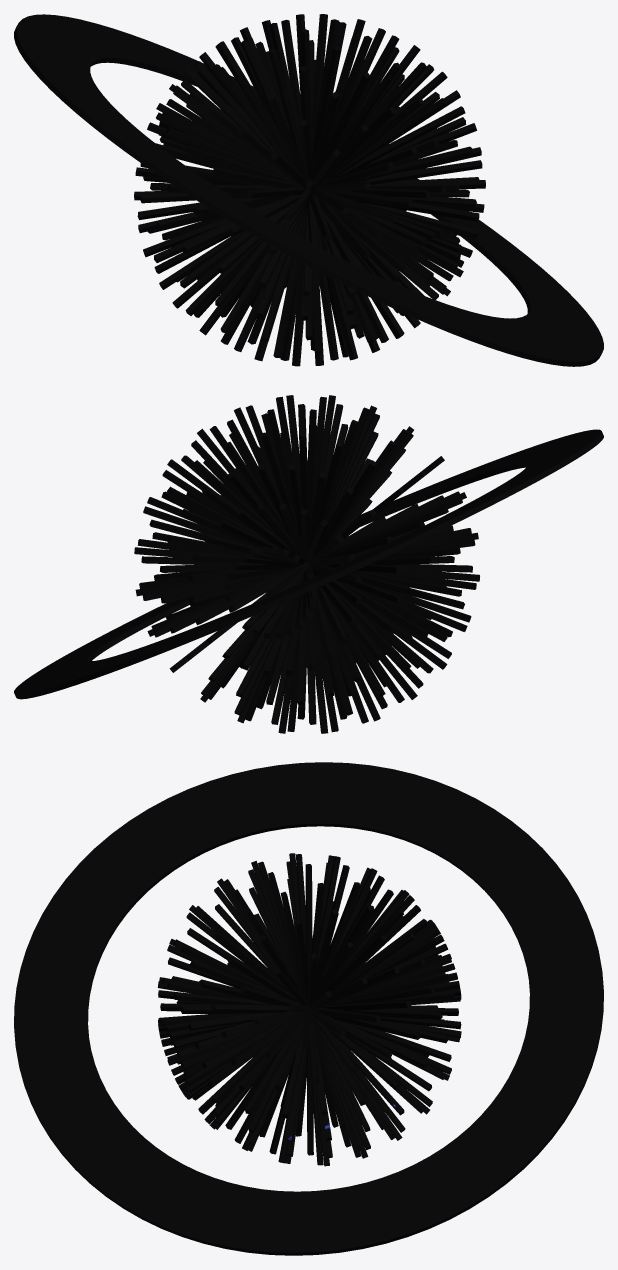
The model's file is DEBRIS.glb.
3 views of the same model, one above another, from view 1: azimuth 30°, elevation 25°; view 2: azimuth 150°, elevation 25°; view 3: azimuth 270°, elevation 25° (orthographic). The views are drawn at different scales.
Parts seen in each view (by area): view 1: mesh_id900, mesh_id759, mesh_id768, mesh_id486, mesh_id836, mesh_id29, mesh_id840, mesh_id329, mesh_id489, mesh_id769, mesh_id490, mesh_id833 (+70 smaller); view 2: mesh_id900, mesh_id333, mesh_id513, mesh_id829, mesh_id754, mesh_id762, mesh_id833, mesh_id747, mesh_id818, mesh_id490, mesh_id329, mesh_id517 (+72 smaller); view 3: mesh_id900, mesh_id743, mesh_id803, mesh_id804, mesh_id626, mesh_id799, mesh_id592, mesh_id330, mesh_id48, mesh_id754, mesh_id619, mesh_id581 (+26 smaller).
Part boxes in pixels (bbox=[...]): mesh_id900: bbox=[14, 14, 603, 366]; mesh_id759: bbox=[281, 19, 338, 360]; mesh_id768: bbox=[292, 14, 327, 366]; mesh_id486: bbox=[154, 106, 465, 273]; mesh_id836: bbox=[137, 160, 482, 219]; mesh_id29: bbox=[247, 36, 372, 344]; mesh_id840: bbox=[143, 123, 476, 257]; mesh_id329: bbox=[280, 19, 339, 360]; mesh_id489: bbox=[273, 22, 346, 358]; mesh_id769: bbox=[220, 35, 399, 344]; mesh_id490: bbox=[199, 45, 420, 335]; mesh_id833: bbox=[220, 47, 399, 333]; mesh_id900: bbox=[14, 429, 603, 699]; mesh_id333: bbox=[286, 395, 328, 733]; mesh_id513: bbox=[143, 506, 471, 622]; mesh_id829: bbox=[137, 539, 476, 589]; mesh_id754: bbox=[287, 396, 326, 731]; mesh_id762: bbox=[245, 405, 368, 723]; mesh_id833: bbox=[162, 470, 451, 658]; mesh_id747: bbox=[278, 395, 335, 733]; mesh_id818: bbox=[134, 547, 479, 581]; mesh_id490: bbox=[197, 428, 417, 699]; mesh_id329: bbox=[267, 409, 347, 719]; mesh_id517: bbox=[161, 491, 452, 637]; mesh_id900: bbox=[14, 762, 603, 1255]; mesh_id743: bbox=[305, 864, 313, 1155]; mesh_id803: bbox=[215, 904, 404, 1115]; mesh_id804: bbox=[168, 957, 451, 1061]; mesh_id626: bbox=[258, 861, 361, 1157]; mesh_id799: bbox=[251, 860, 368, 1158]; mesh_id592: bbox=[248, 869, 370, 1150]; mesh_id330: bbox=[225, 889, 393, 1129]; mesh_id48: bbox=[259, 882, 360, 1137]; mesh_id754: bbox=[268, 872, 351, 1147]; mesh_id619: bbox=[295, 854, 323, 1165]; mesh_id581: bbox=[214, 886, 405, 1132].
Size of the model in its own units: 0.9481 by 0.5831 by 1.1.
Materials: 169 (169 with a texture image).
